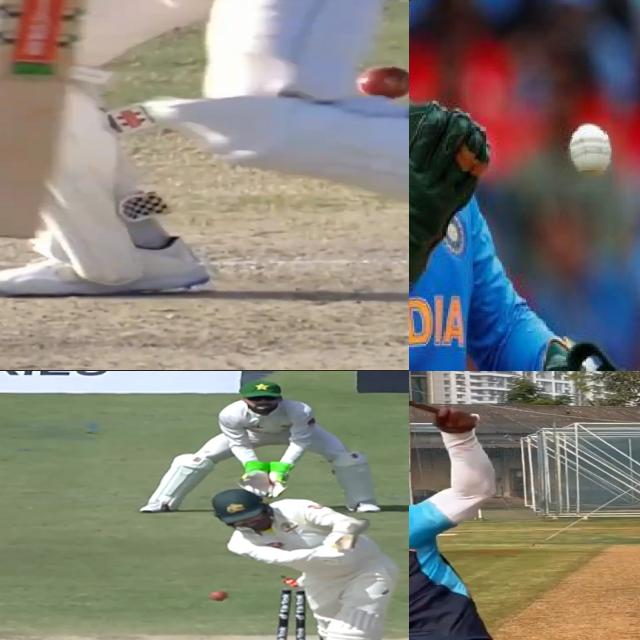Cricket ball: (563, 118, 612, 184), (351, 63, 409, 102), (208, 590, 230, 602)
